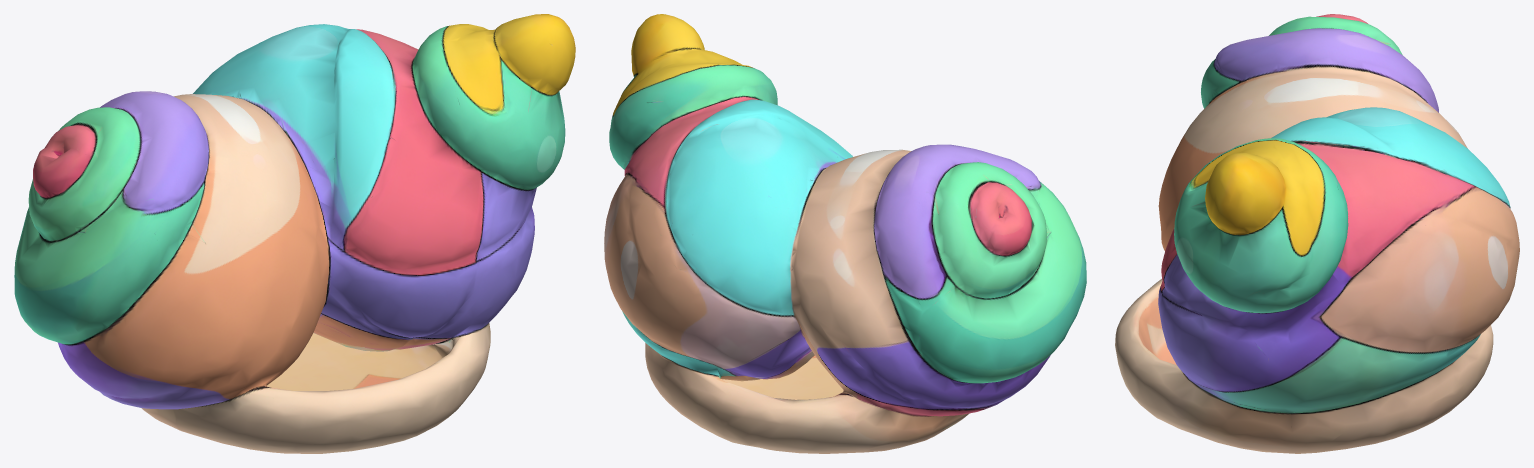
Rendered from static.glb.
3 views of the same model, side by side, from view 1: azimuth 30°, elevation 25°; view 2: azimuth 150°, elevation 25°; view 3: azimuth 270°, elevation 25° (orthographic). The views are drawn at different scales.
Visible parts, largest first — view 1: Mesh_0; view 2: Mesh_0; view 3: Mesh_0.
Boxes of the visible parts, <box> form: Mesh_0: <box>14,14,575,453</box>; Mesh_0: <box>604,14,1086,453</box>; Mesh_0: <box>1115,14,1519,453</box>.
Bounding box in the file's own units: 1.9 × 1.3 × 1.36.
Materials: 1 (1 with a texture image).
